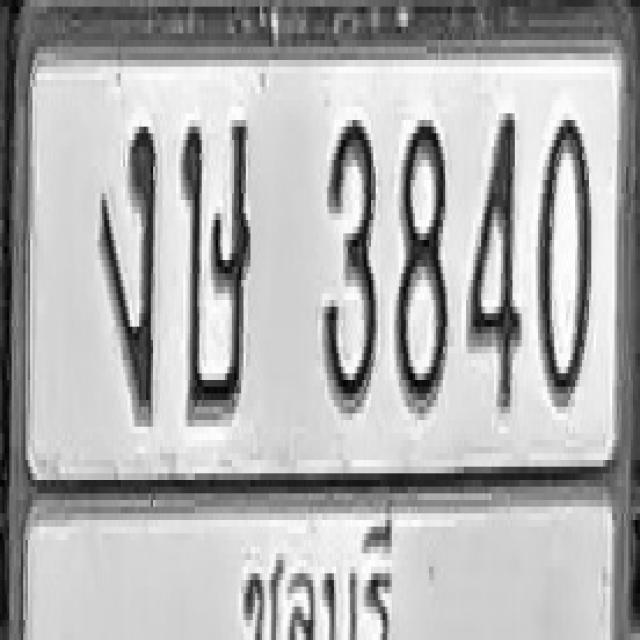0: (537, 110, 590, 403)
16NgorNgu: (98, 116, 156, 416)
3: (322, 113, 376, 407)
4: (467, 106, 521, 406)
48SorRueSi: (181, 110, 250, 417)
8: (396, 113, 446, 407)
Chonburi: (233, 491, 402, 640)
